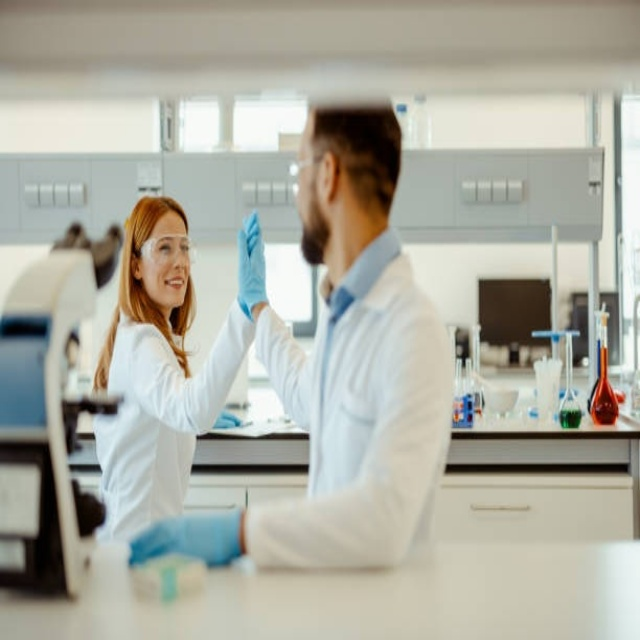Gafas: (140, 236, 198, 266), (288, 153, 340, 180)
Guantes: (127, 510, 243, 569), (237, 209, 268, 321), (213, 410, 242, 429)
Sin_mascara: (159, 270, 186, 304)
